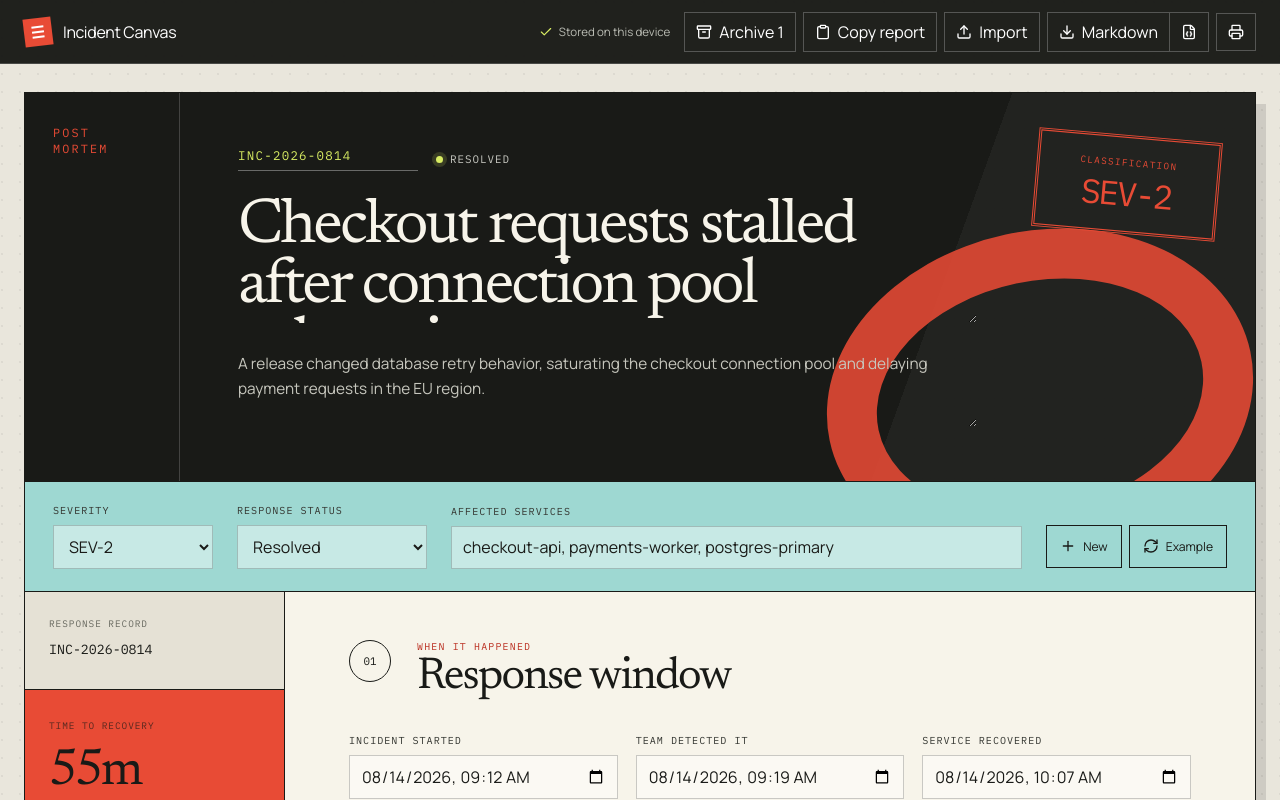
it: Incident Canvas › starts a blank report and restores the example
Step 1. Click the button "New" → (1084, 546), box [1046,525,1122,568]
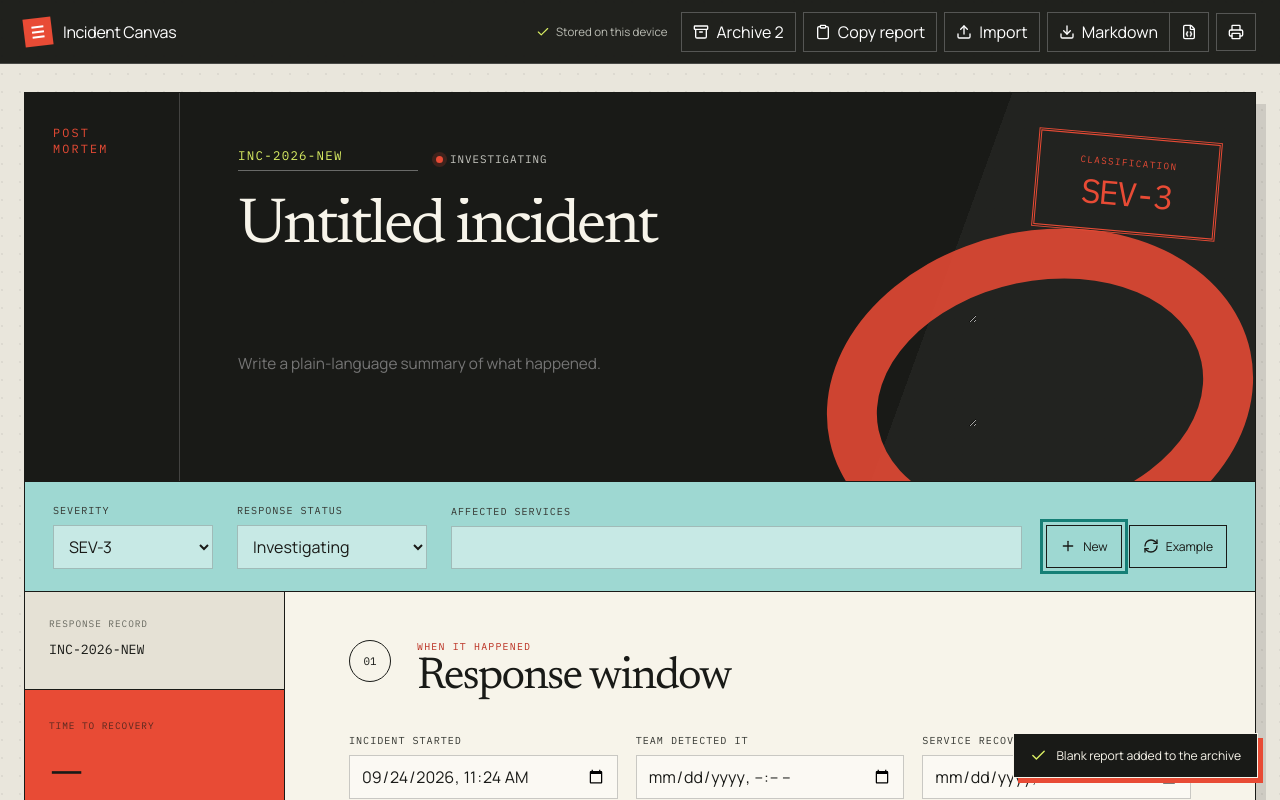
Expected: the text box showing "Untitled incident" is shown, [238,198,977,323]
Step 2. Click the button "Example" → (1178, 546), box [1129,525,1227,568]
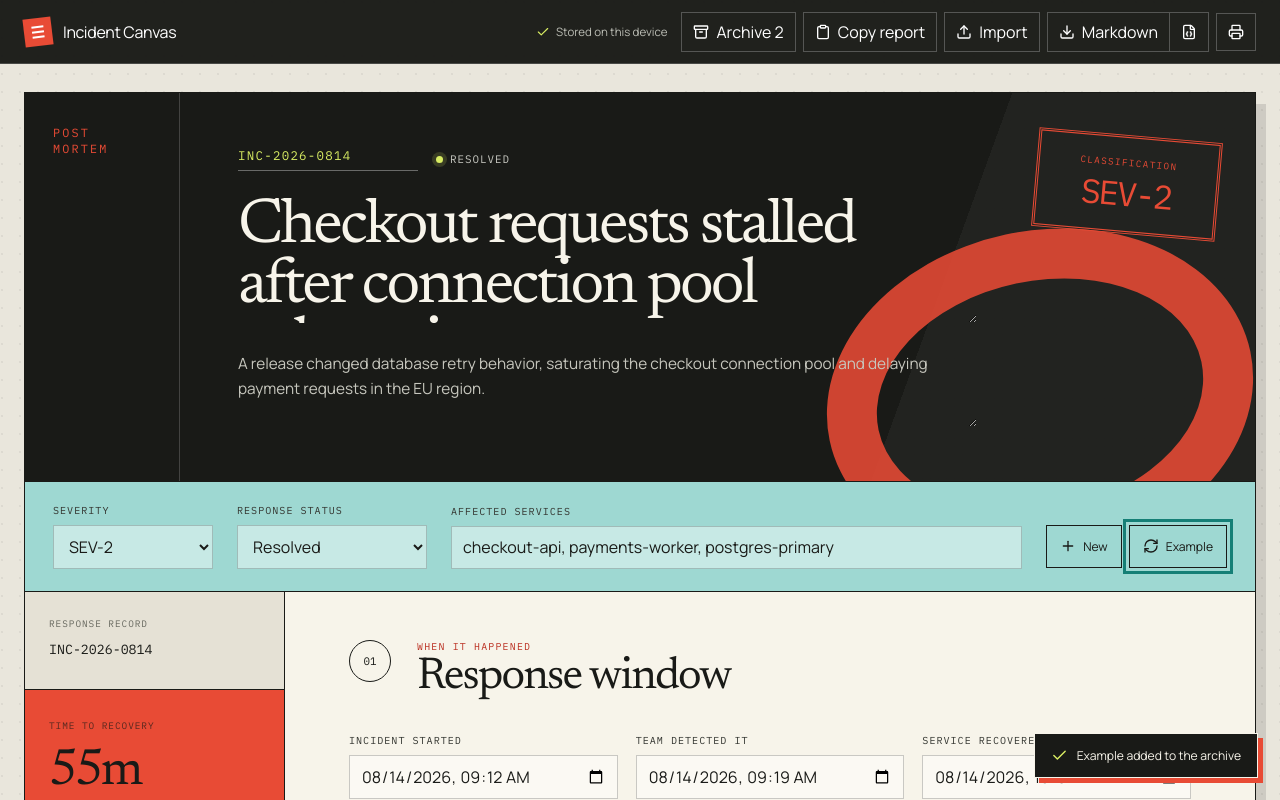
Expected: the text box showing "Checkout requests stalled" is shown, [238,198,977,323]
